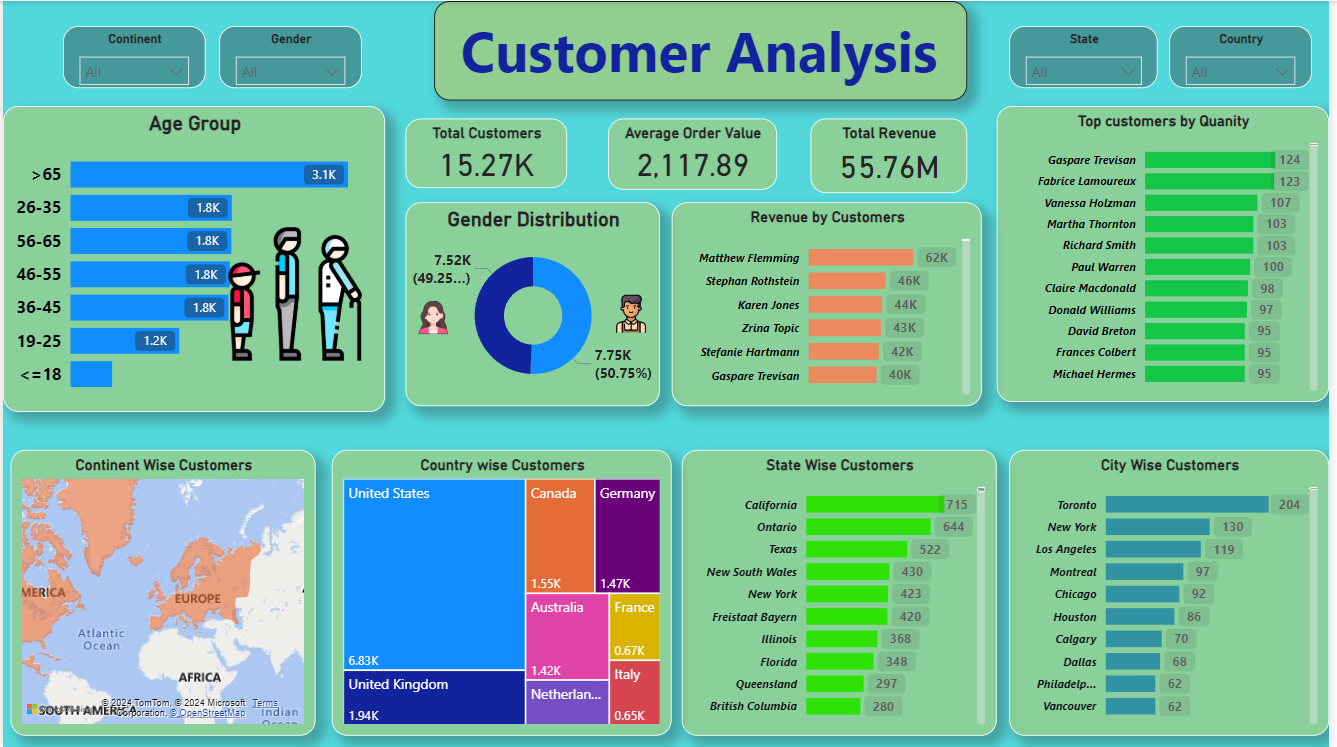

What the dashboard file says about the page in this screenshot:
{"tool":"powerbi","page":{"name":"Customer Analysis","canvas":[1280,720],"ordinal":0},"visuals":[{"type":"textbox","box":[415.8,0,514.6,96.1],"z":0},{"type":"donutChart","title":"Gender Distribution","fields":{"Category":["customers.Gender"],"Y":["CountNonNull(customers.CustomerKey)"]},"box":[388.8,194.2,246,196.6],"z":1000,"group":"g1"},{"type":"filledMap","title":"Continent Wise Customers ","fields":{"Category":["customers.Continent"]},"box":[7.2,433.1,294.4,276.3],"z":1000},{"type":"treemap","title":"Country wise Customers ","fields":{"Values":["CountNonNull(customers.CustomerKey)"],"Group":["customers.Country"]},"box":[317.3,433.1,328.2,276.3],"z":2000},{"type":"group","id":"g1","title":"Group 1","box":[376.4,194.2,269,196.6],"z":3000},{"type":"group","id":"g2","title":"Group 2","box":[0,100.9,369.2,295.6],"z":4000},{"type":"clusteredBarChart","title":"Age Group","fields":{"Category":["Age grouping.age_bucket"],"Y":["Sum(Age grouping.count)"]},"box":[0,100.9,369.2,295.6],"z":4000,"group":"g2"},{"type":"clusteredBarChart","title":"State Wise Customers ","fields":{"Category":["customers.State"],"Y":["CountNonNull(customers.CustomerKey)"]},"box":[655.1,433.1,304,276.3],"z":5000},{"type":"image","box":[567.1,279,78.3,46.4],"z":6000,"group":"g1"},{"type":"clusteredBarChart","title":"City Wise Customers ","fields":{"Category":["customers.City"],"Y":["CountNonNull(customers.CustomerKey)"]},"box":[971.2,433.1,308.8,276.3],"z":6000},{"type":"card","title":"Total Customers","fields":{"Values":["CountNonNull(customers.CustomerKey)"]},"box":[388.5,113.4,155.6,67.6],"z":7000},{"type":"image","box":[376.4,284.6,78.3,42],"z":7000,"group":"g1"},{"type":"image","box":[208.6,213,146.6,138.9],"z":7001,"group":"g2"},{"type":"clusteredBarChart","title":"Top customers by Quanity","fields":{"Category":["customers.Name"],"Y":["Sum(sales.Quantity)"]},"box":[959.1,101.3,320.9,285.9],"z":8000},{"type":"clusteredBarChart","title":"Revenue by Customers","fields":{"Category":["customers.Name"],"Y":["sales.Total Revenue"]},"box":[645.4,194.2,299.2,196.6],"z":9000},{"type":"card","title":"Total Revenue","fields":{"Values":["sales.Total Revenue"]},"box":[779.4,113.4,150.8,72.4],"z":10000},{"type":"card","title":"Average Order Value","fields":{"Values":["sales.Average Order Value"]},"box":[583.9,113.4,162.9,68.8],"z":11000},{"type":"slicer","title":"State","fields":{"Values":["customers.State"]},"box":[971.2,24.1,143.6,60.3],"z":12000},{"type":"slicer","title":"Gender","fields":{"Values":["customers.Gender"]},"box":[208.7,24.1,137.5,60.3],"z":13000},{"type":"slicer","title":"Country","fields":{"Values":["customers.Country"]},"box":[1125.6,24.1,137.5,60.3],"z":14000},{"type":"slicer","title":"Continent","fields":{"Values":["customers.Continent"]},"box":[57.9,24.1,137.5,60.3],"z":15000}]}

Visuals, with their boxes in screenshot pixels (x1, y1, x2, y2), scaled from the page's 1280x720 canvas onto the 1337x747 screenshot:
textbox: x1=434 y1=0 x2=972 y2=100
"Gender Distribution" donutChart: x1=406 y1=201 x2=663 y2=405
"Continent Wise Customers " filledMap: x1=8 y1=449 x2=315 y2=736
"Country wise Customers " treemap: x1=331 y1=449 x2=674 y2=736
"Group 1" group: x1=393 y1=201 x2=674 y2=405
"Group 2" group: x1=0 y1=105 x2=386 y2=411
"Age Group" clusteredBarChart: x1=0 y1=105 x2=386 y2=411
"State Wise Customers " clusteredBarChart: x1=684 y1=449 x2=1002 y2=736
image: x1=592 y1=289 x2=674 y2=338
"City Wise Customers " clusteredBarChart: x1=1014 y1=449 x2=1336 y2=736
"Total Customers" card: x1=406 y1=118 x2=568 y2=188
image: x1=393 y1=295 x2=475 y2=339
image: x1=218 y1=221 x2=371 y2=365
"Top customers by Quanity" clusteredBarChart: x1=1002 y1=105 x2=1336 y2=402
"Revenue by Customers" clusteredBarChart: x1=674 y1=201 x2=987 y2=405
"Total Revenue" card: x1=814 y1=118 x2=972 y2=193
"Average Order Value" card: x1=610 y1=118 x2=780 y2=189
"State" slicer: x1=1014 y1=25 x2=1164 y2=88
"Gender" slicer: x1=218 y1=25 x2=362 y2=88
"Country" slicer: x1=1176 y1=25 x2=1319 y2=88
"Continent" slicer: x1=60 y1=25 x2=204 y2=88
